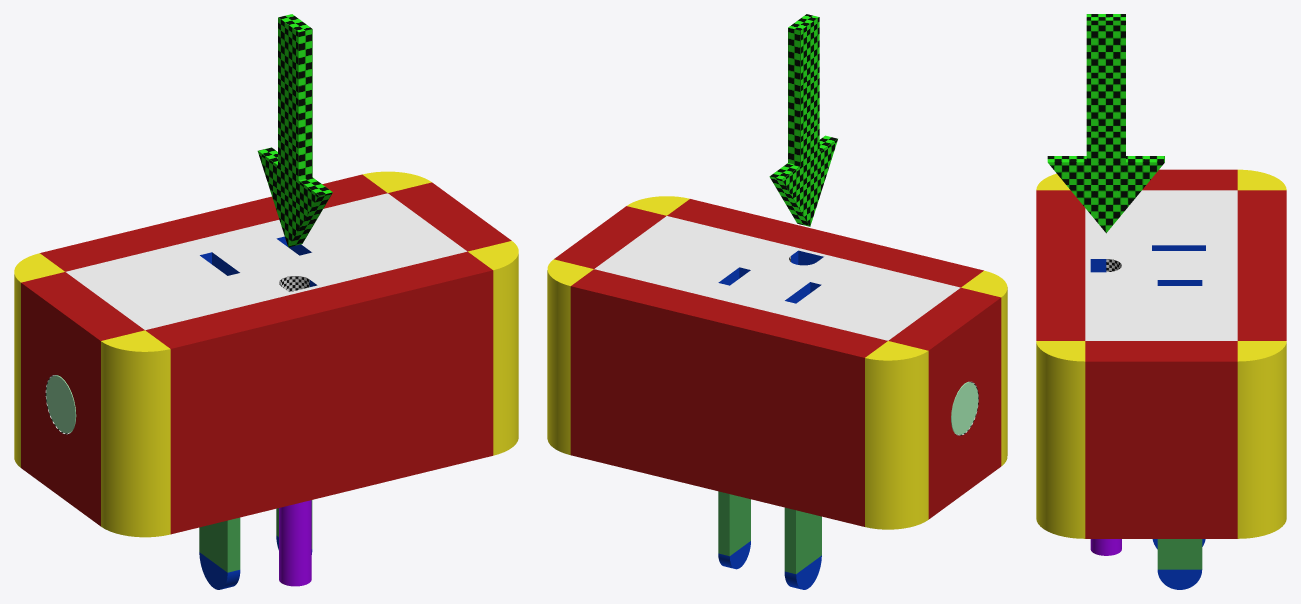
Rendered from Case_Study_SmartSwitch_9.glb.
The picture shows the model from 3 angles, left to right: view 1: azimuth 30°, elevation 25°; view 2: azimuth 150°, elevation 25°; view 3: azimuth 270°, elevation 25°; orthographic projection. The views are drawn at different scales.
Parts seen in each view (by area): view 1: Part 16, Part 22, Part 18, Part 19, Part 24, Part 23, Part 17, Part 20; view 2: Part 16, Part 22, Part 18, Part 19, Part 23, Part 17, Part 20; view 3: Part 16, Part 22, Part 18, Part 19, Part 17, Part 23, Part 24.
Boxes of the visible parts, x1,y1,x2,y2 form: Part 16: (21,174,511,534); Part 22: (66,193,467,330); Part 18: (14,171,518,537); Part 19: (257,14,332,247); Part 24: (279,500,311,586); Part 23: (199,500,312,572); Part 17: (199,236,317,589); Part 20: (46,375,76,433); Part 16: (554,199,1001,526); Part 22: (594,216,960,340); Part 18: (547,196,1007,529); Part 19: (769,14,837,226); Part 23: (718,491,821,573); Part 17: (718,250,823,589); Part 20: (951,382,978,434); Part 16: (1036,169,1286,538); Part 22: (1085,190,1237,340); Part 18: (1036,169,1286,538); Part 19: (1047,14,1164,233); Part 17: (1090,245,1205,589); Part 23: (1157,539,1202,569); Part 24: (1090,539,1121,555).
Bounding box in the file's own units: 0.0737 × 0.0996 × 0.0406.
Materials: 10 (3 with a texture image).
